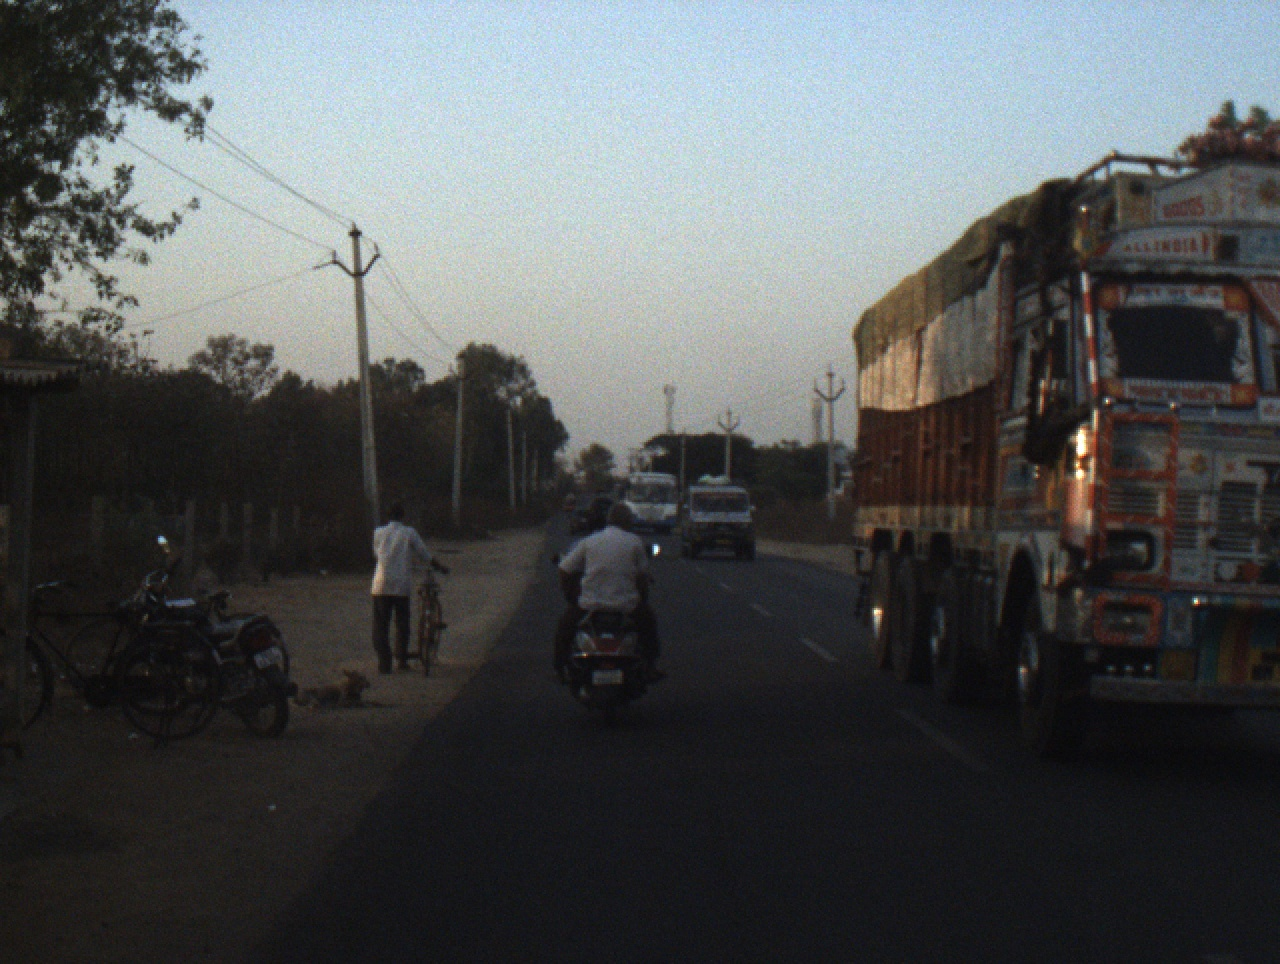animal: (293, 670, 386, 709)
bicycle: (3, 573, 230, 747), (408, 566, 459, 679)
bus: (616, 471, 679, 535)
car: (678, 474, 758, 559), (568, 489, 612, 535)
motorcycle: (117, 532, 301, 740), (547, 541, 667, 736)
rider: (547, 501, 676, 686), (372, 499, 453, 676), (561, 499, 626, 605)
truck: (853, 145, 1280, 756)
vehicle fallback: (558, 494, 577, 513)
